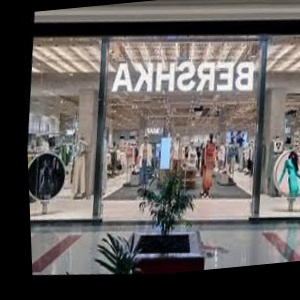bershka: (214, 13, 299, 73)
